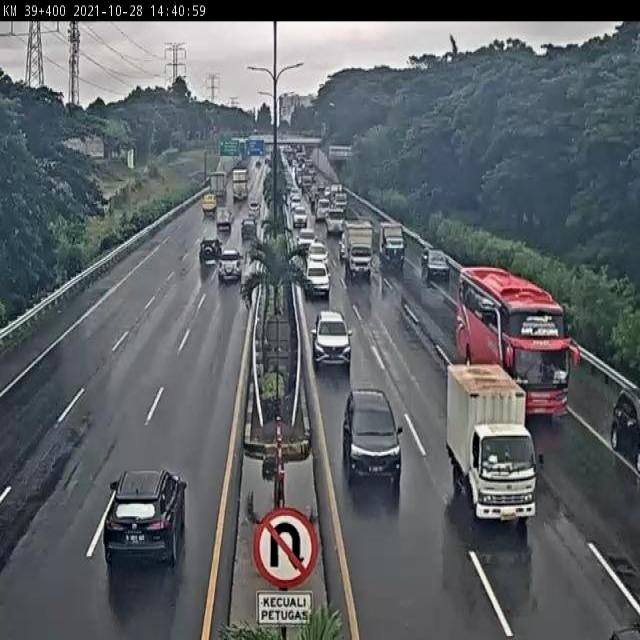Bus: (461, 266, 578, 417)
